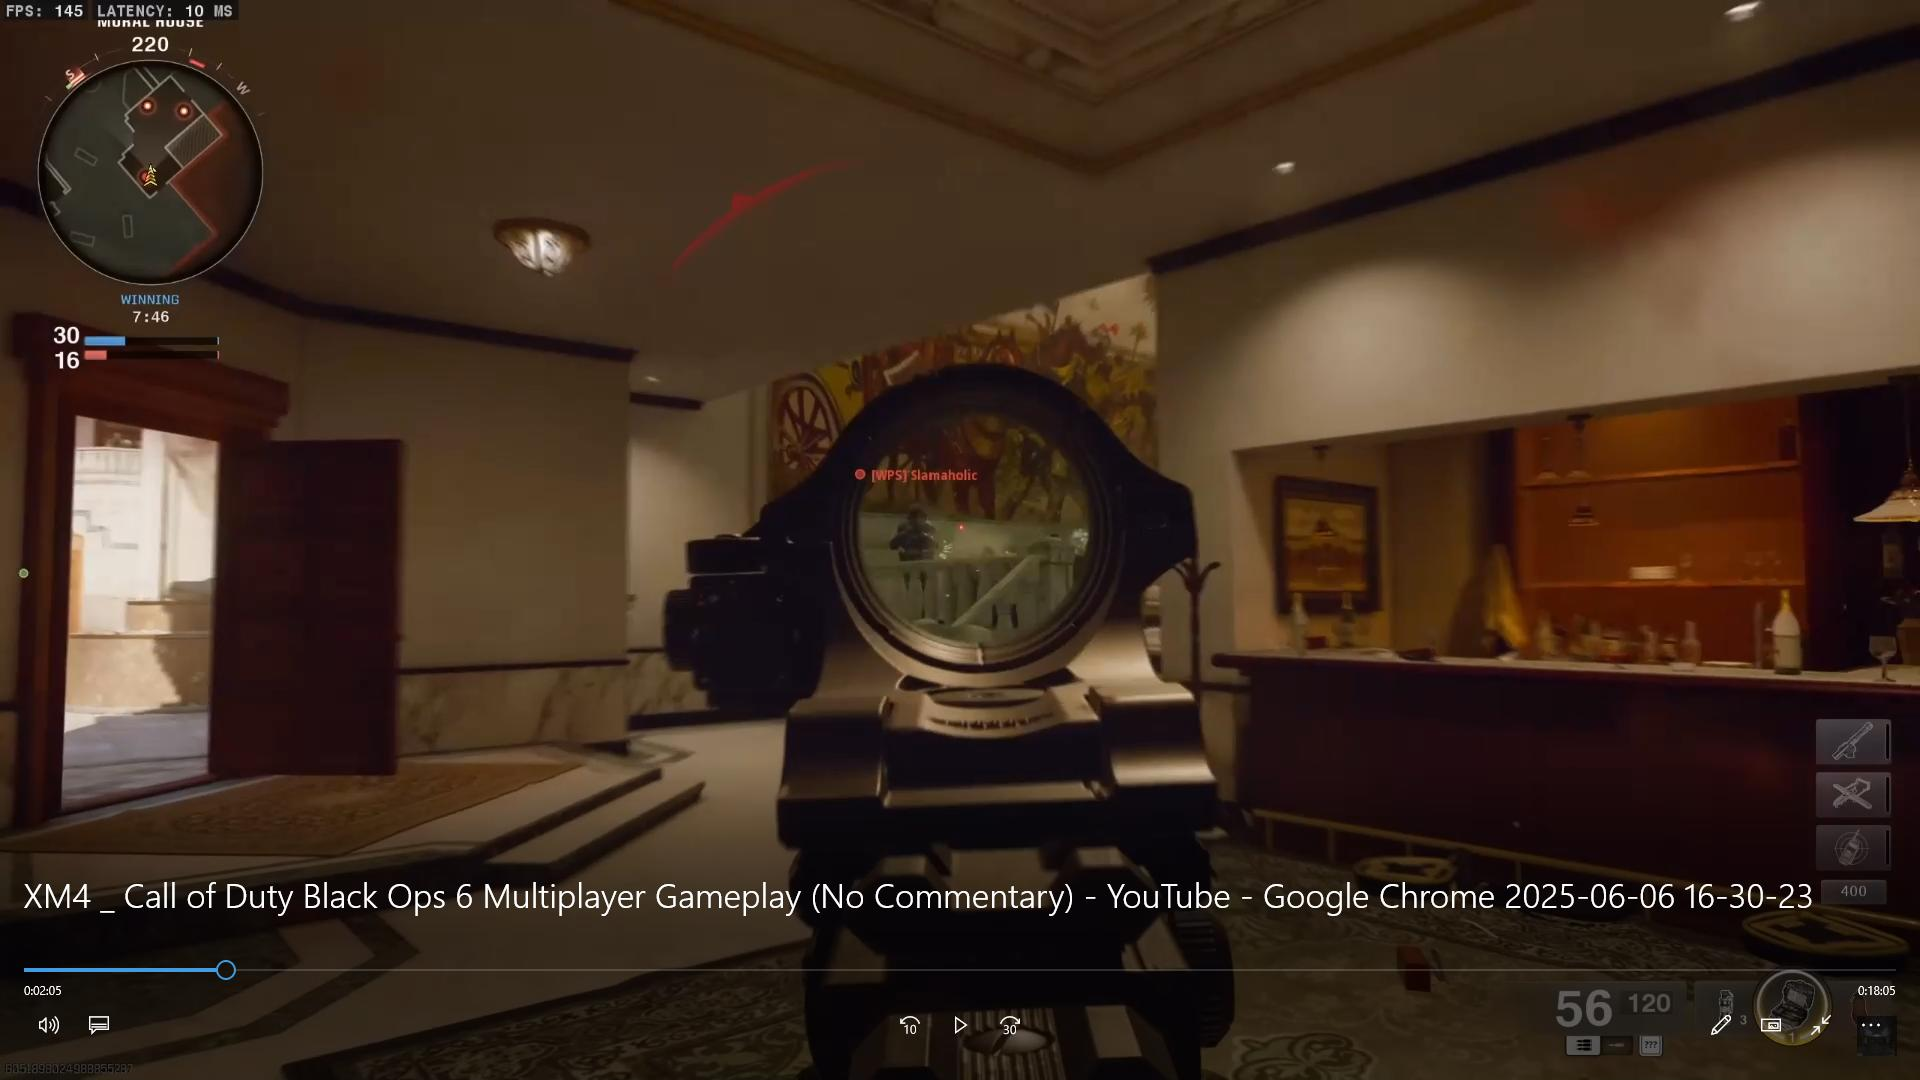Enemy: (869, 463, 961, 560)
